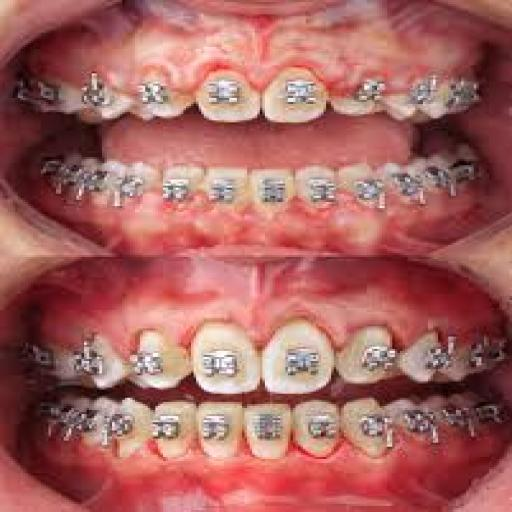correct_brace: (275, 344, 328, 381), (198, 349, 244, 380)
incorrect_brace: (124, 323, 189, 394), (338, 321, 404, 389), (290, 399, 342, 467), (146, 400, 198, 464)
